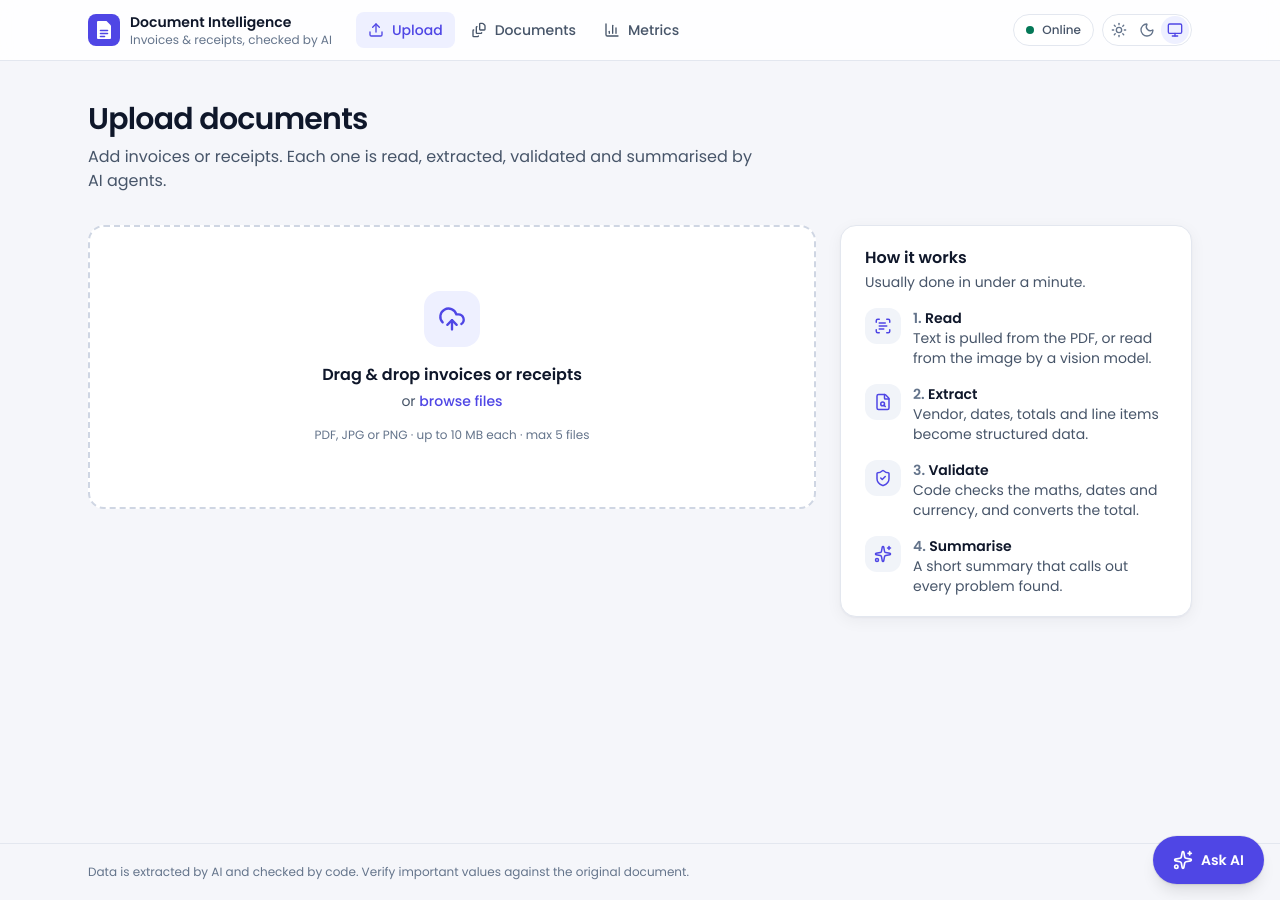
Scenario: Ask AI chat (feature 0010) › opens with example questions and answers one with linked invoices
Click the button with aria-label "Ask AI about your invoices" at (1208, 860), box [1153,836,1264,884]
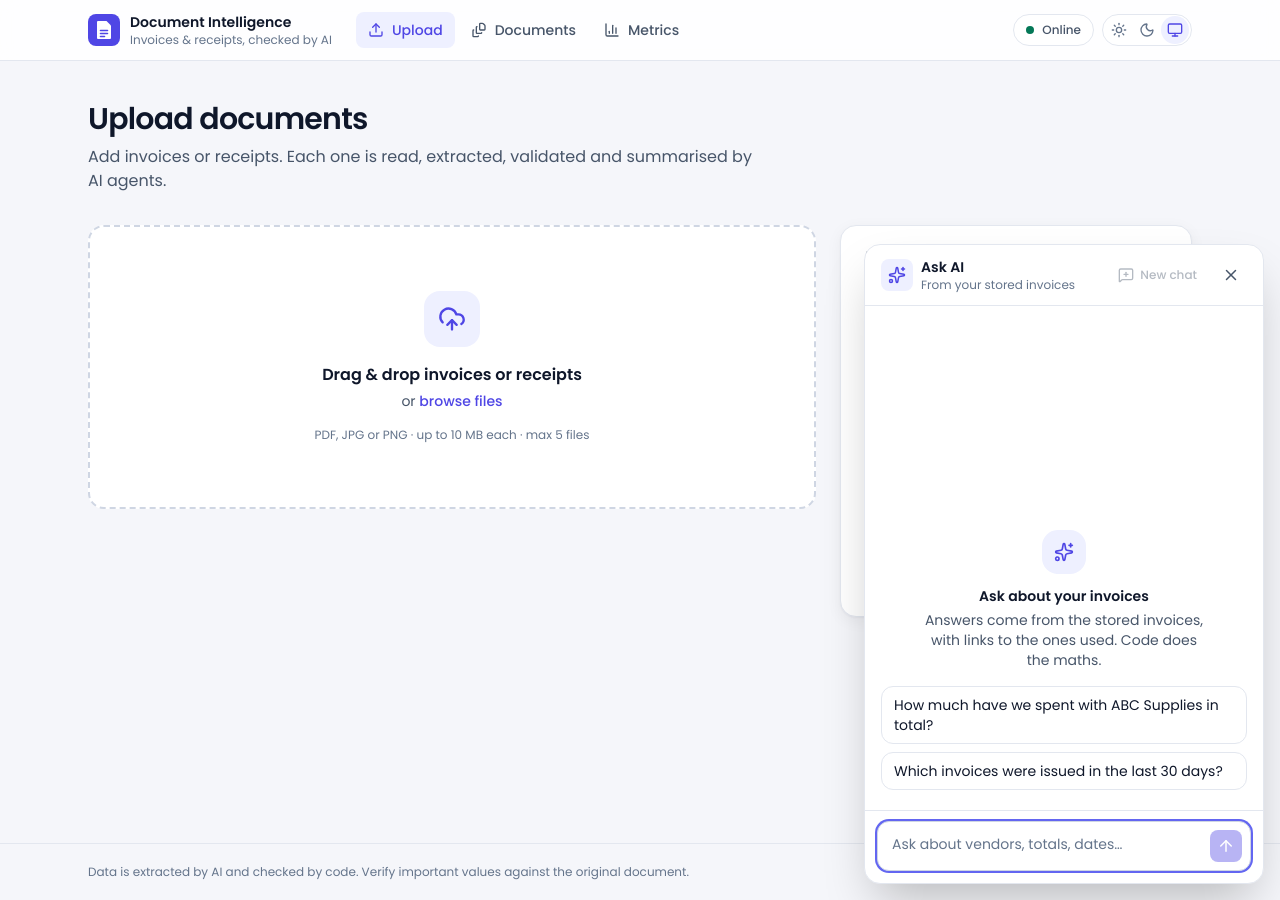
Click the button "How much have we spent with ABC Supplies in total?" at (1064, 715), box [881,686,1247,744]
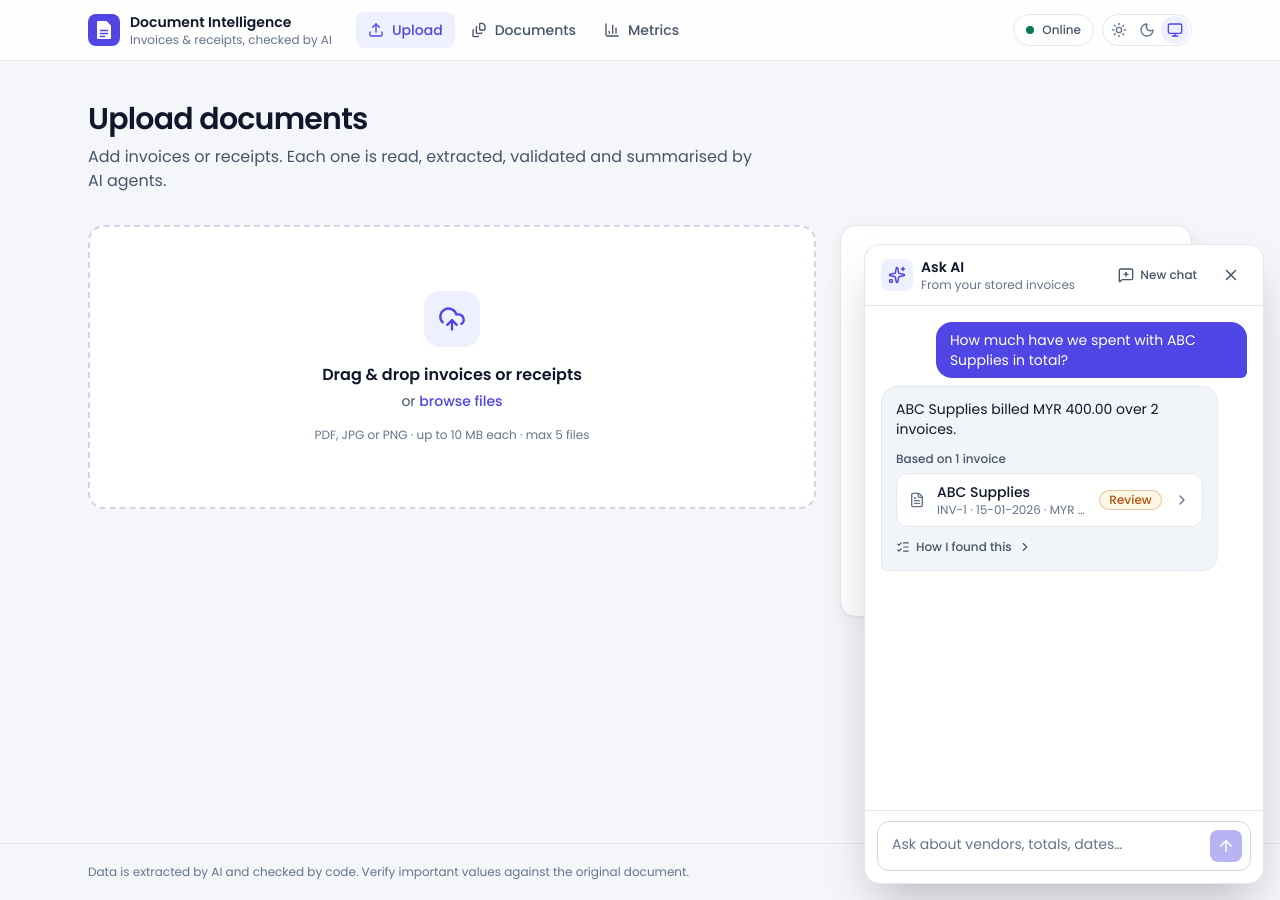
Result: the text "ABC Supplies billed MYR 400.00 over 2 invoices." is shown at [896,399,1203,439]
Result: the text "Review" is shown at [1099,490,1162,510]
Result: the text "Based on 1 invoice" is shown at [896,450,1006,467]
Click the heading "How I found this" at (964, 547), box [896,539,1032,555]
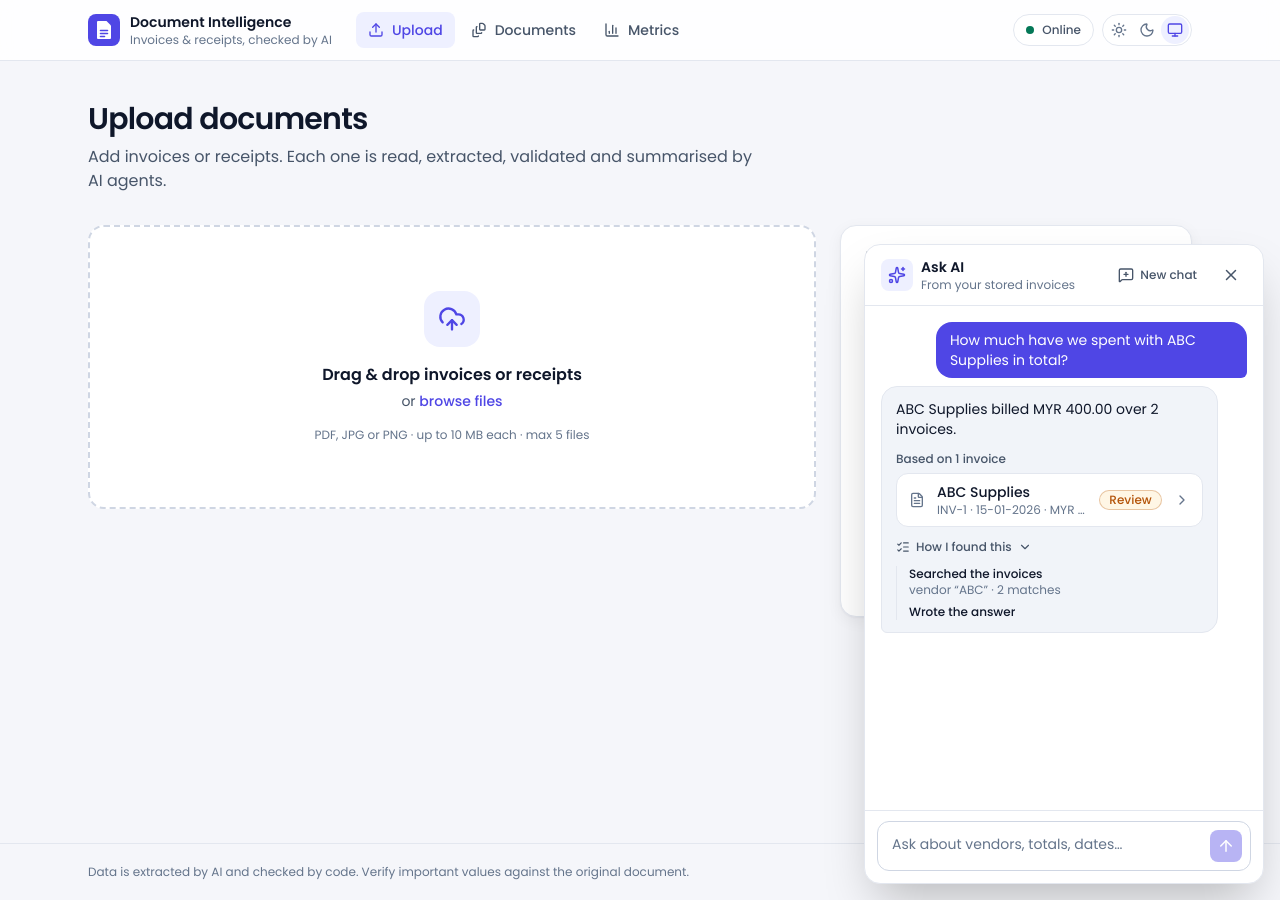
Result: the text "Searched the invoices" is shown at [909,565,1042,582]
Result: the text "vendor “ABC” · 2 matches" is shown at [909,581,1061,598]
